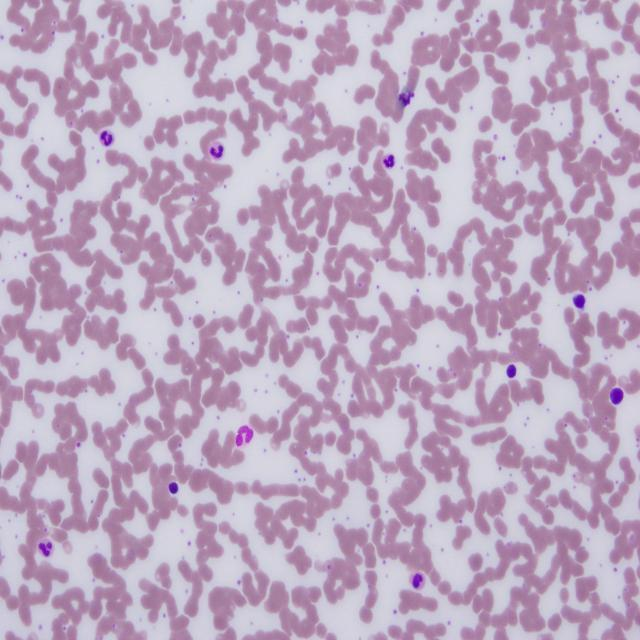cell: (38, 539, 54, 558), (209, 140, 224, 159), (100, 129, 114, 147), (411, 572, 425, 590), (382, 155, 395, 169)
